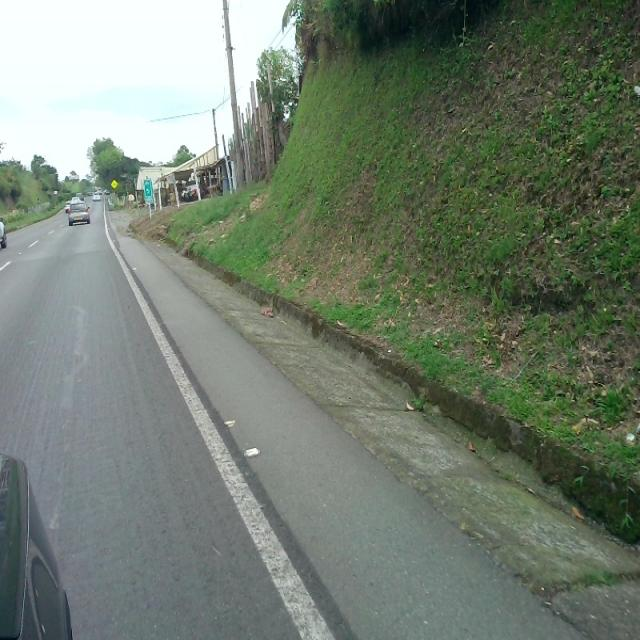DITCH: (2, 57, 637, 638), (111, 207, 638, 638)
